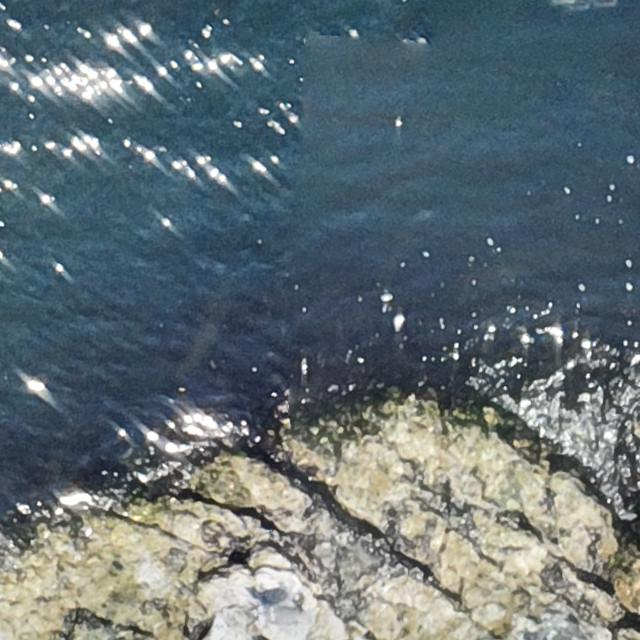umineko: (259, 602, 315, 627)
